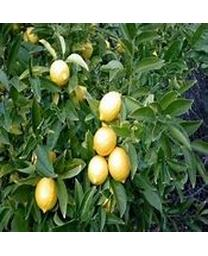lemon: (107, 147, 131, 183), (36, 177, 58, 213), (99, 93, 121, 122), (94, 126, 116, 155), (88, 156, 108, 183), (49, 60, 69, 84)
